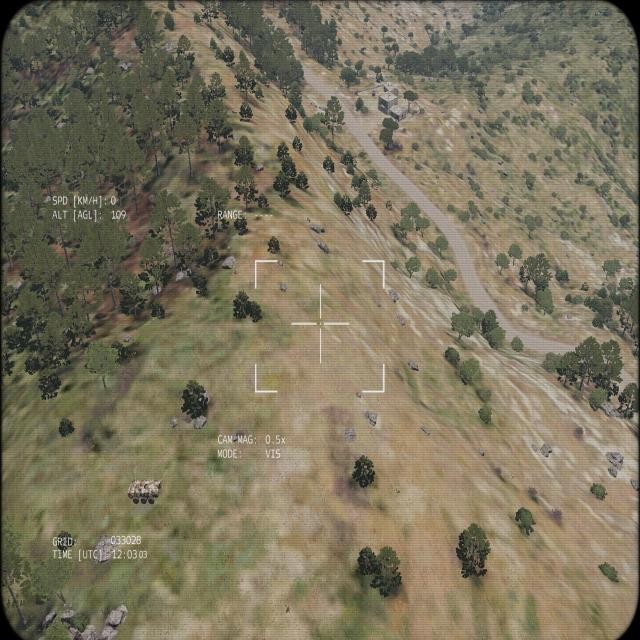apc: (126, 478, 162, 505)
